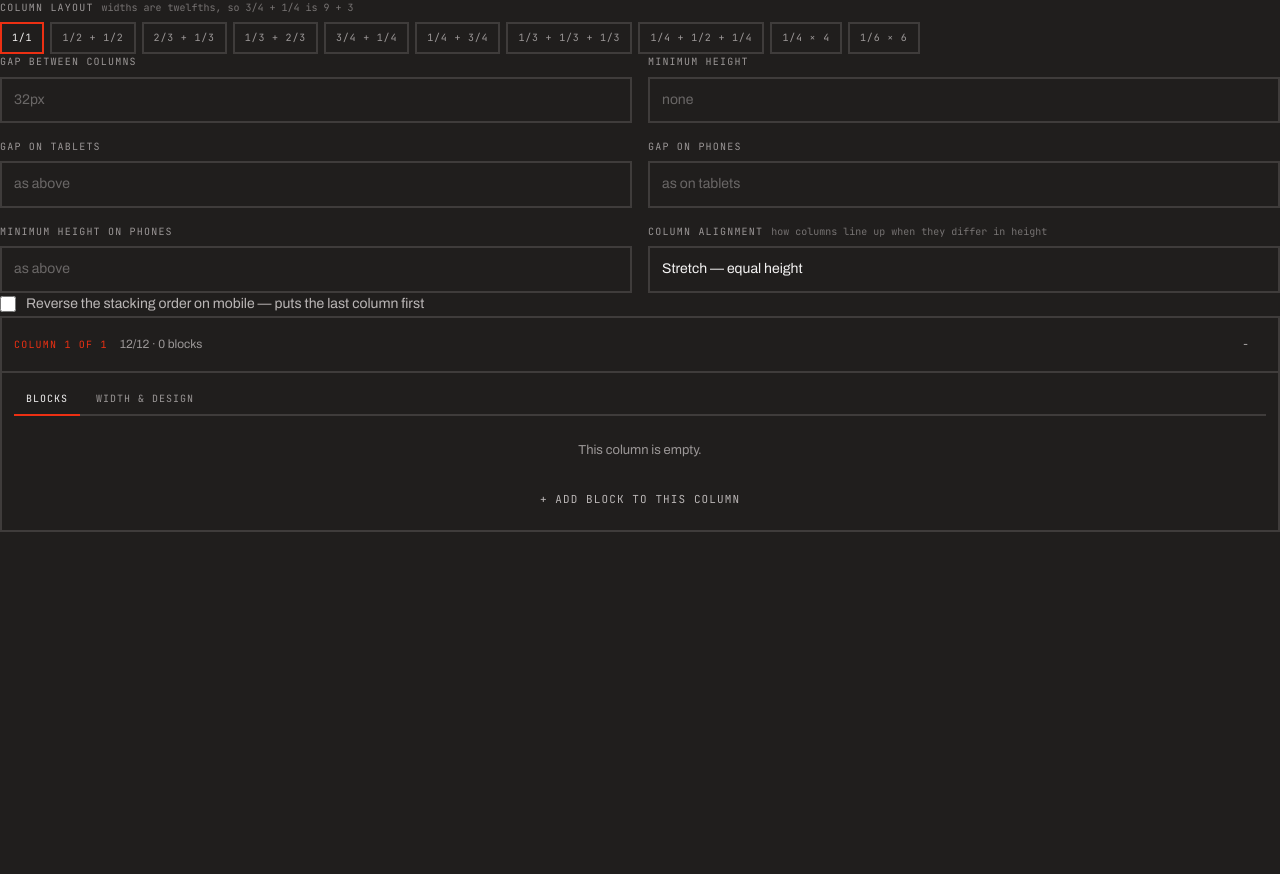
it: the block picker inside a column › says so rather than showing an empty grid
The width and height of the screenshot is (1280, 874).
Click the button "+ Add block to this column": (640, 500) [14,481,1266,518]
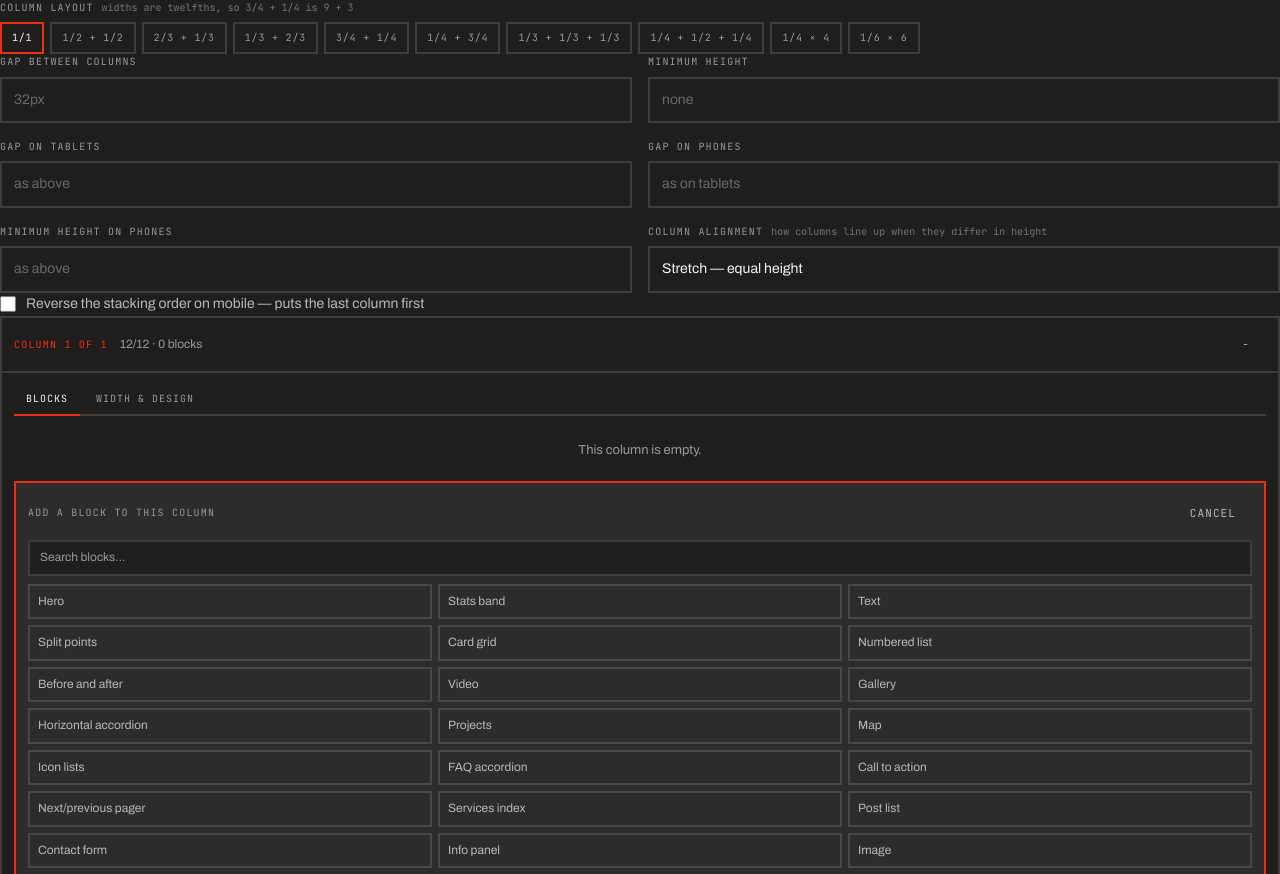
In the search field labelled "Search blocks": (640, 558) [28,540,1252,576], type "zzzz"
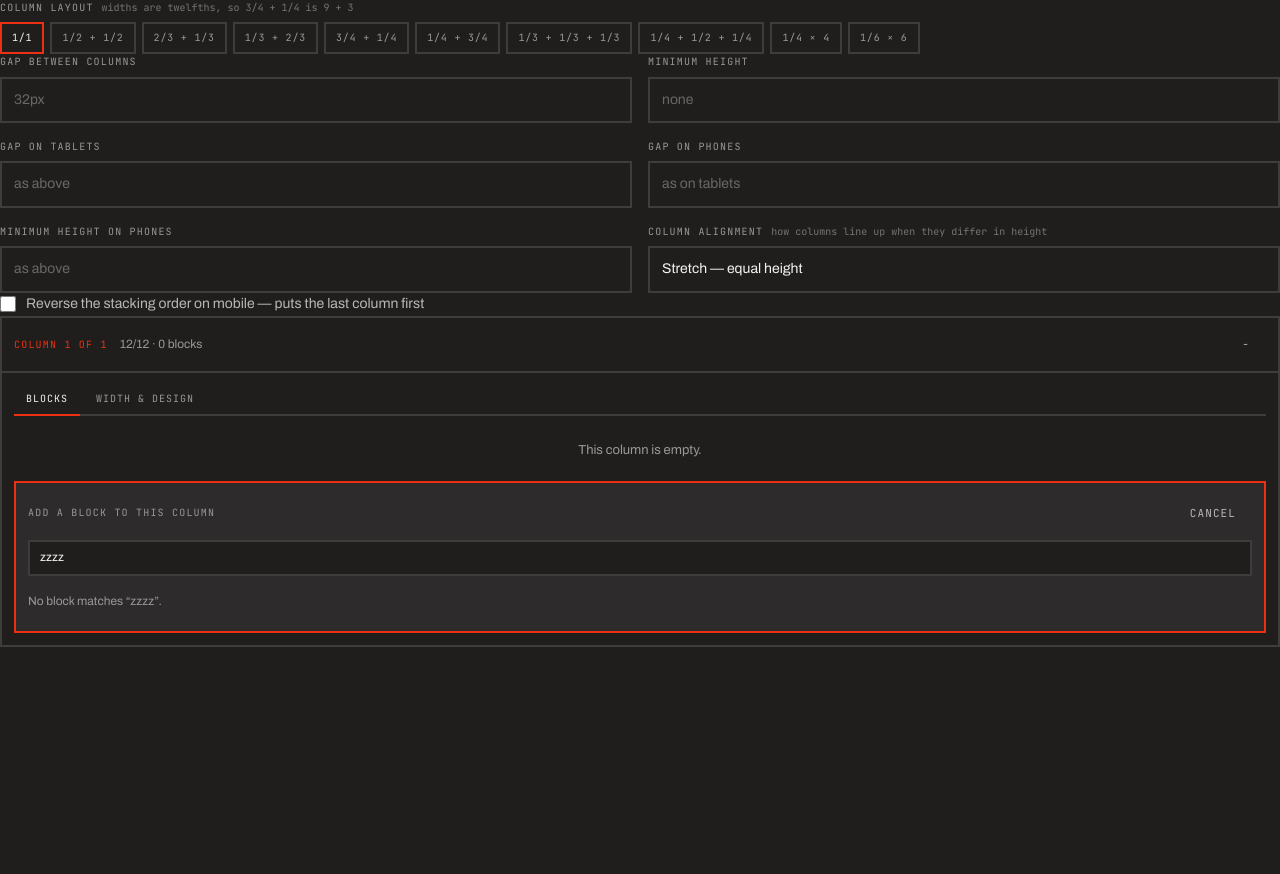
expect the text "No block matches “zzzz”." is shown: met, box [28,594,162,608]
expect no the button "Hero" are shown: met
